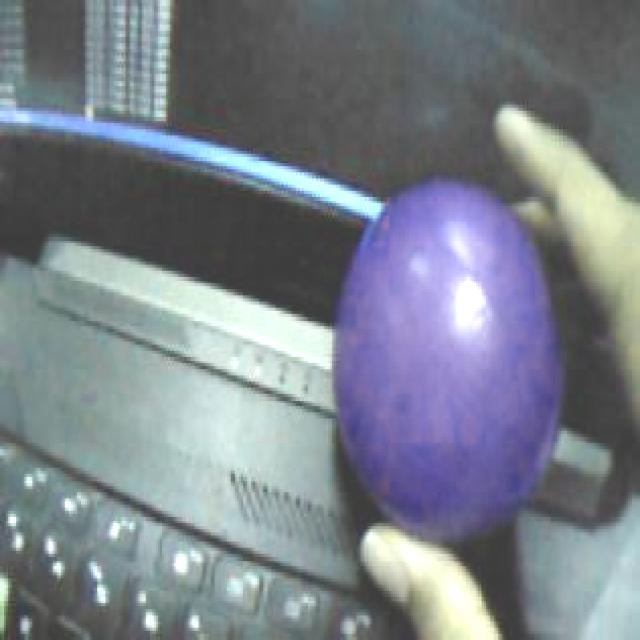BallPurple: (331, 178, 559, 554)
